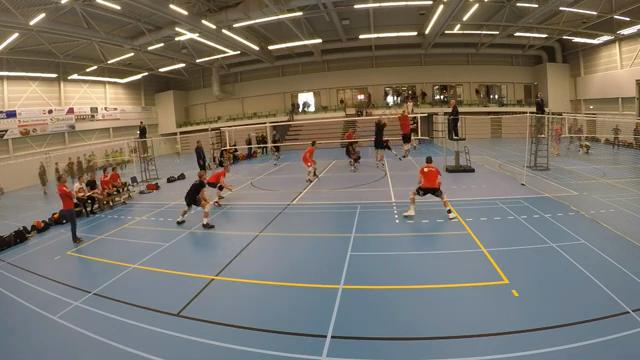Attack: (406, 101, 424, 151)
Block: (389, 100, 419, 160), (365, 106, 389, 166)
Player: (404, 156, 455, 218), (177, 171, 214, 228), (206, 165, 232, 206), (302, 140, 317, 182), (345, 142, 360, 171), (384, 139, 401, 160), (271, 130, 281, 165), (345, 128, 355, 142)
